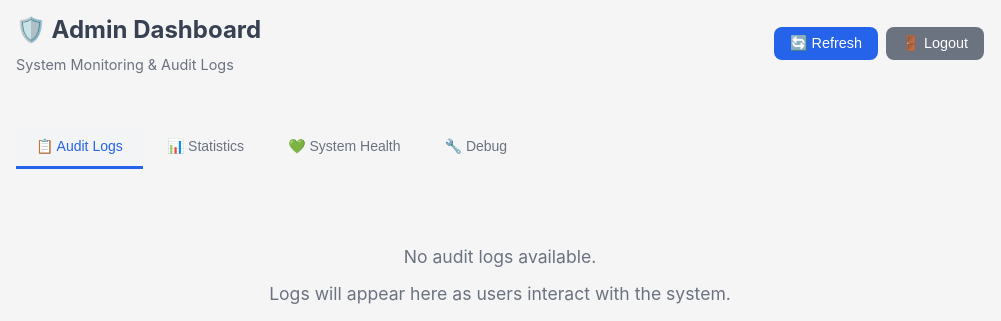
it: AdminPanel › System Health Tab › shows no data message when health history is empty
// Switch to System Health tab
Click the button "💚 System Health" at (344, 148), box x1=268 y1=126 x2=420 y2=169
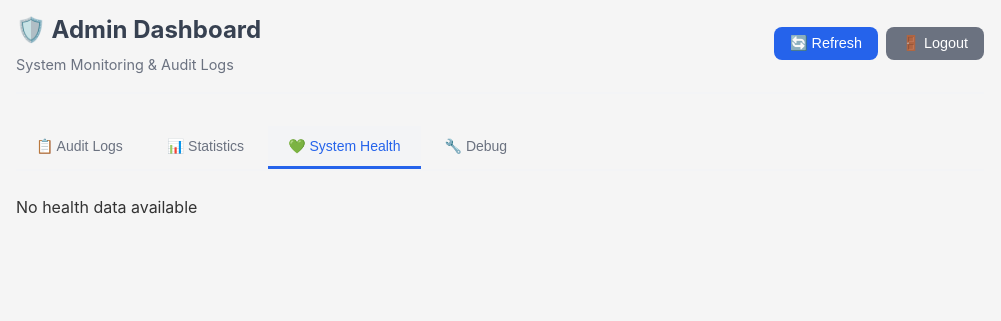
Expected: the text "No health data available" is shown, x1=16 y1=197 x2=197 y2=217
